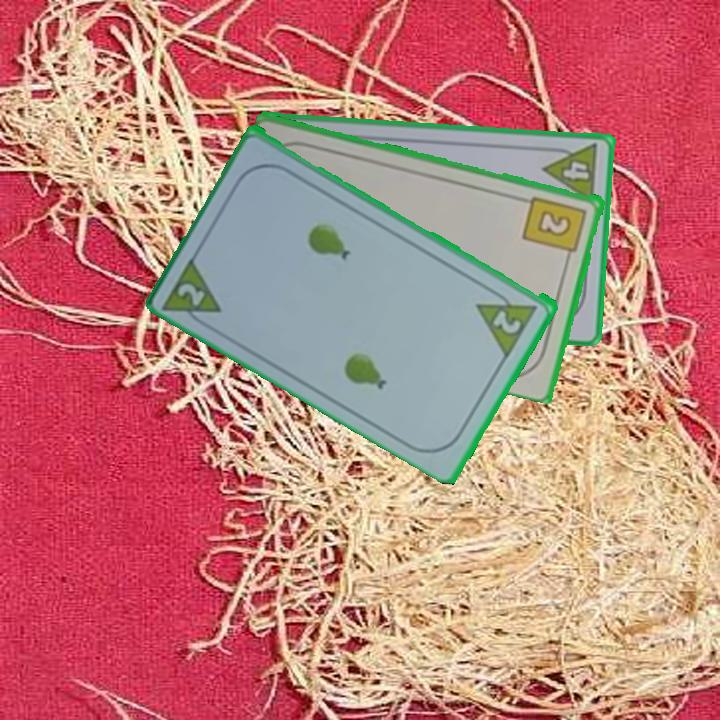2b: (520, 192, 590, 264)
2p: (473, 282, 542, 358), (174, 279, 209, 309)
4p: (540, 140, 601, 206)
